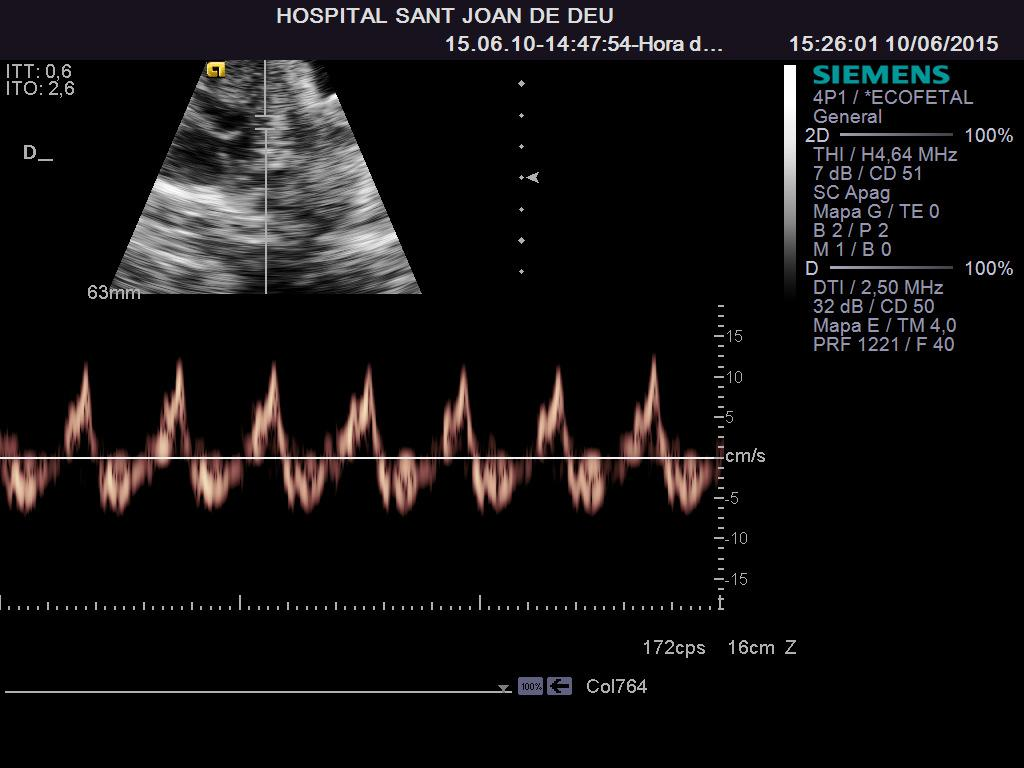Ultrasound-Waves: (1, 308, 713, 593)
